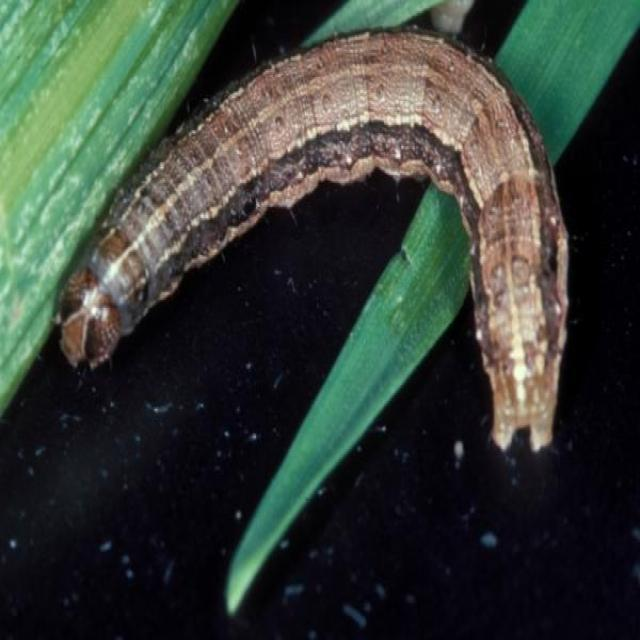Plaga: (49, 13, 587, 494)
